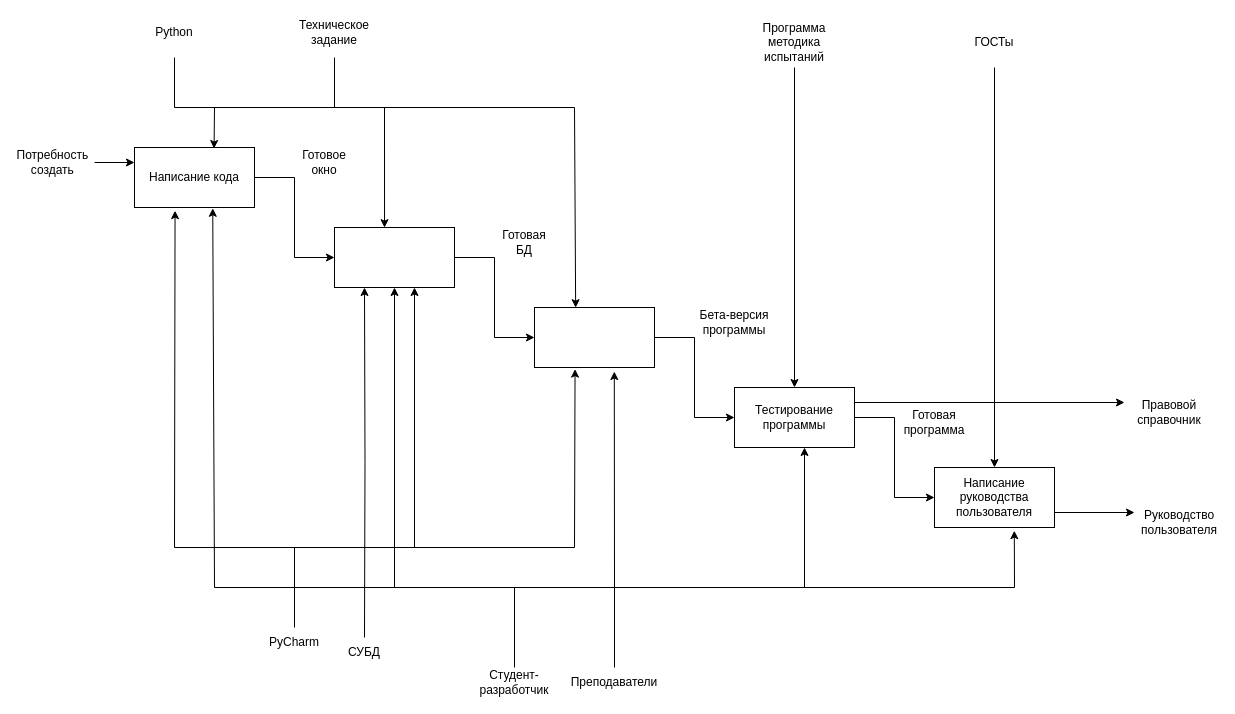
Image size: 1235x714. Some labels were removed from this diagram. The centre of each missing label's shape, as x and y in pixels:
Разработка интерфейса: (594,337)
Создание базы данных: (394,257)
